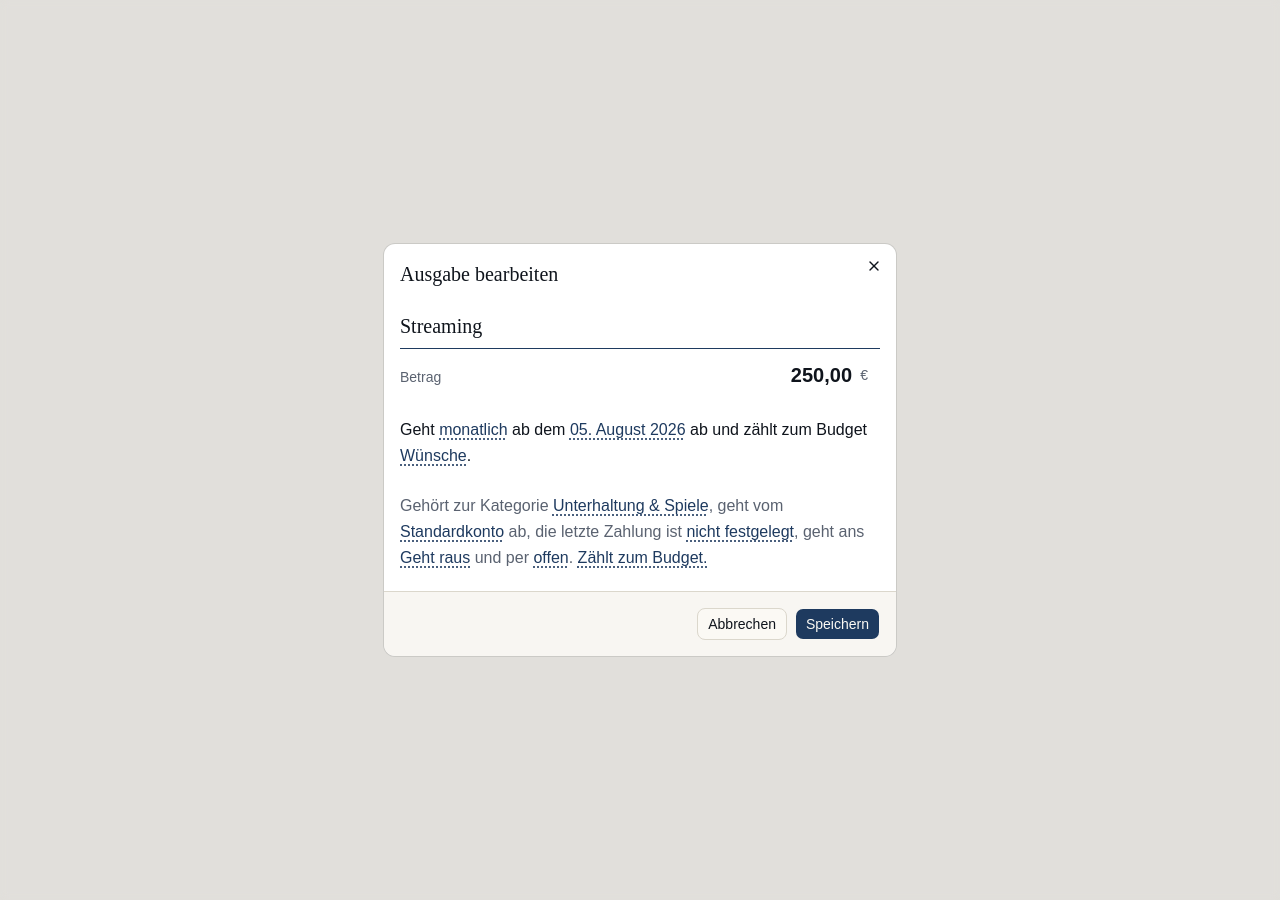
CommitmentDialog date words on a running contract (#237) › the end year of a closed panel does not survive to the next opening
Click the button "nicht festgelegt" at (740, 532), box [684,519,796,545]
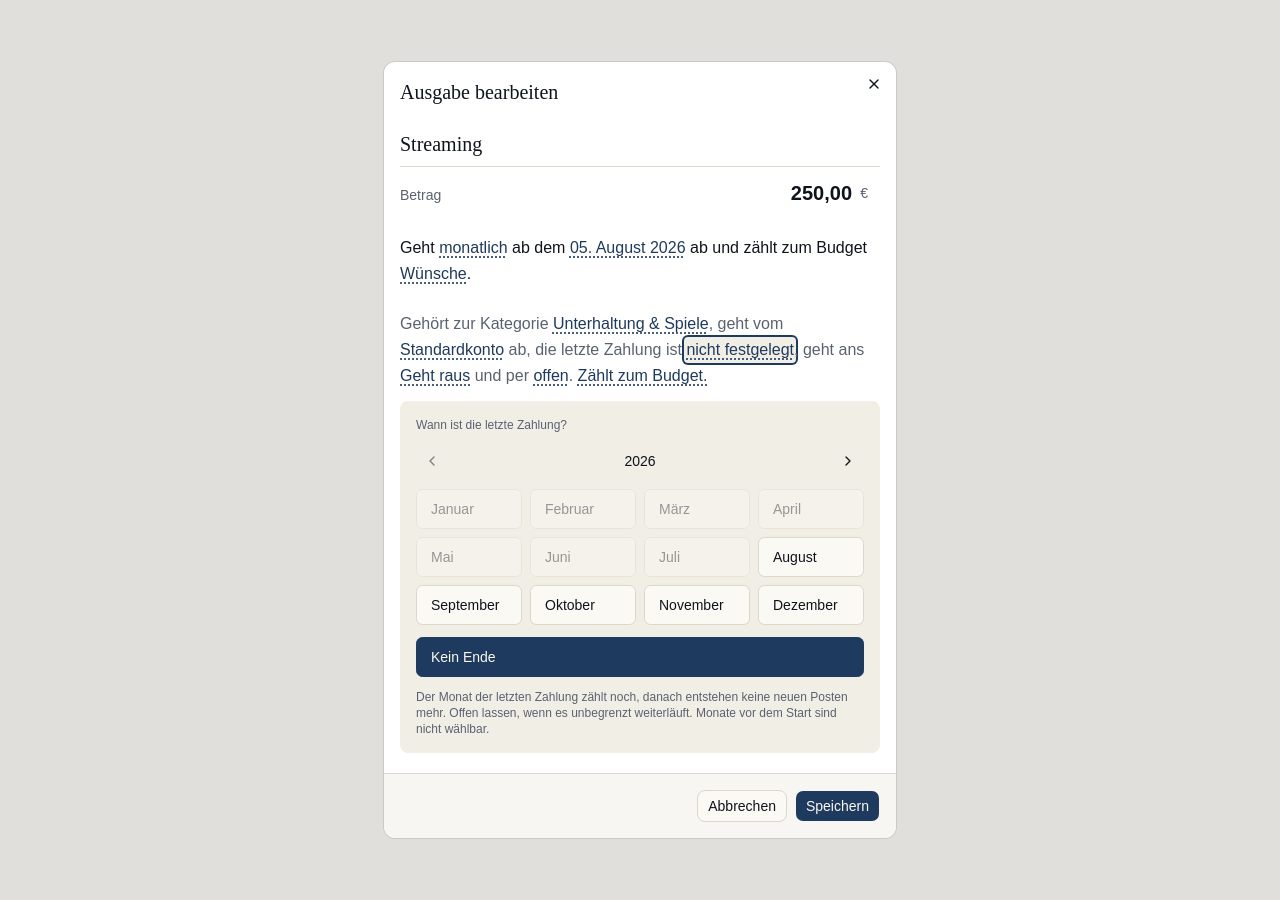
Click the button named "Nächstes Jahr" at (848, 461), box [832,445,864,477]
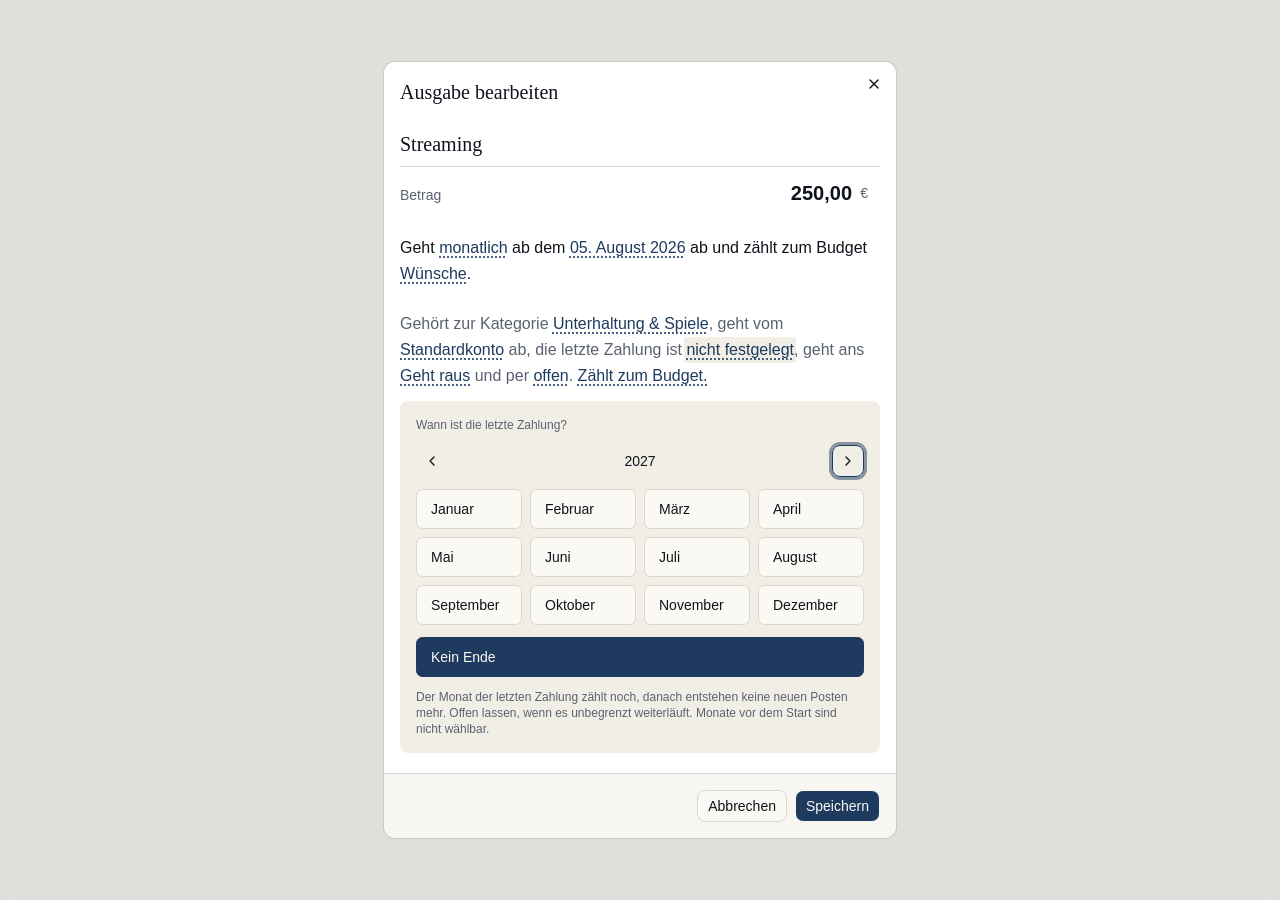
Result: the text "2027" is shown at [624,451,656,471]
Click the button "nicht festgelegt" at (740, 350), box [684,337,796,363]
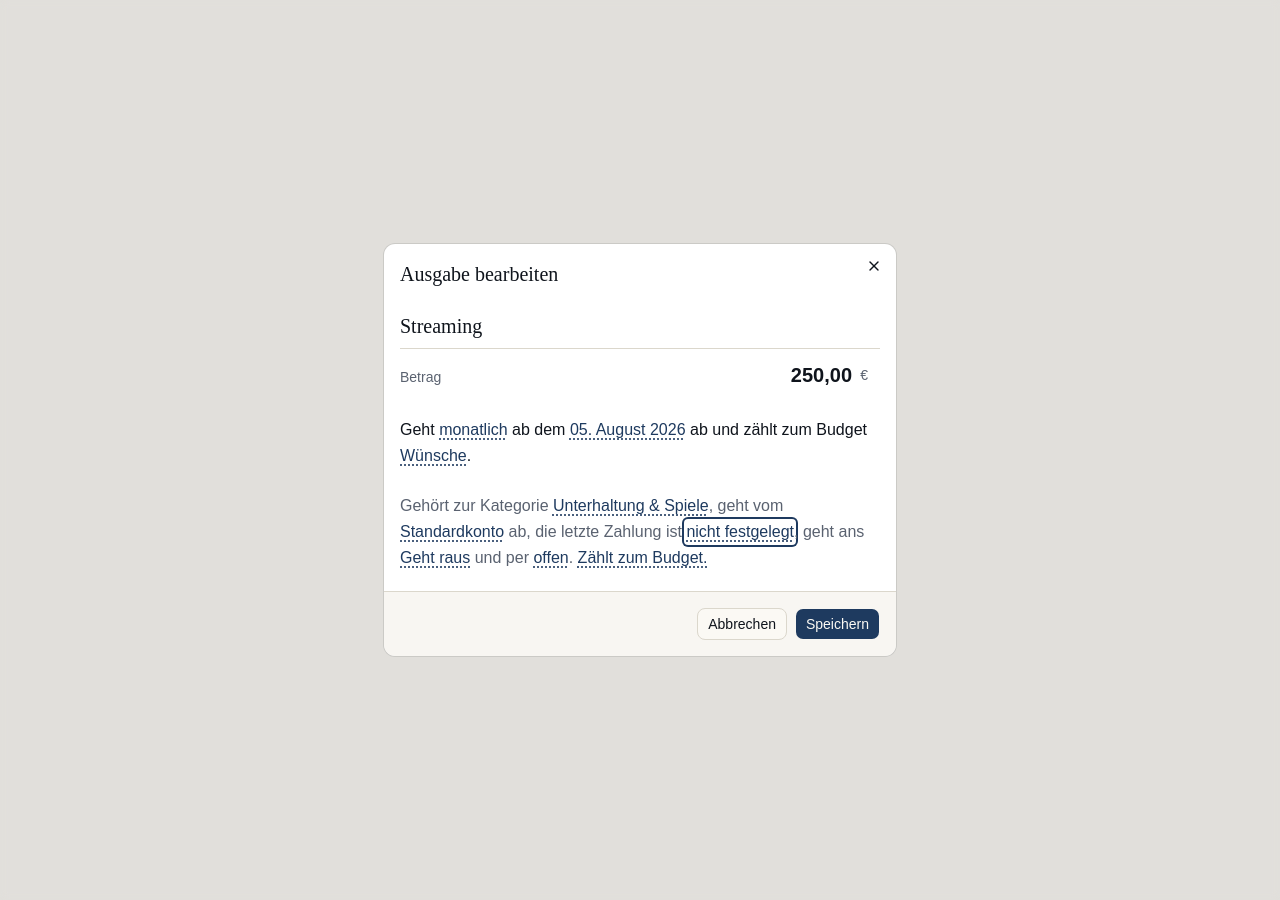
Click the button "nicht festgelegt" at (740, 532), box [684,519,796,545]
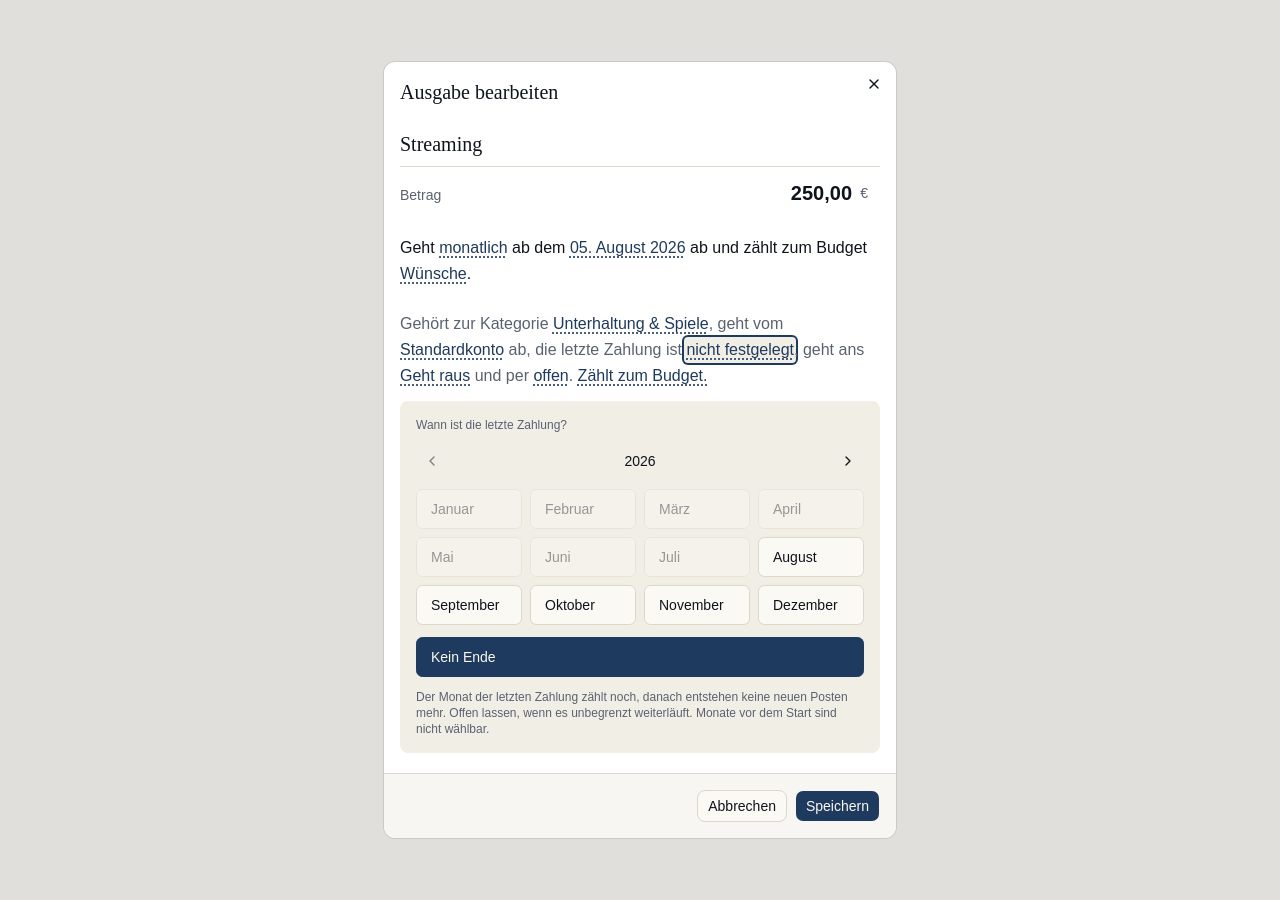
Result: the text "2026" is shown at [624,451,656,471]
